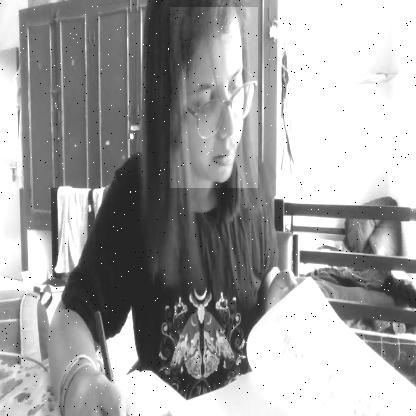Distracted: (170, 7, 258, 188)
